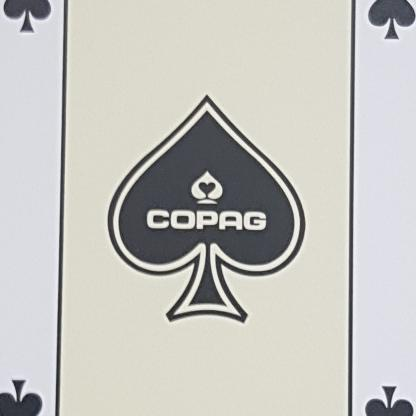As: (0, 0, 62, 52), (360, 0, 415, 56)
